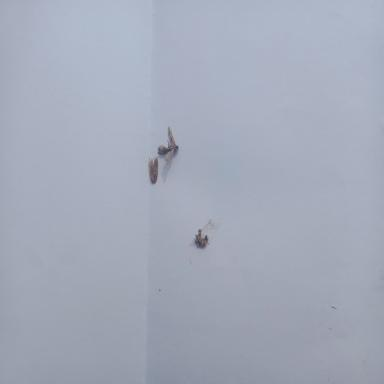pbw: (148, 156, 158, 184)
